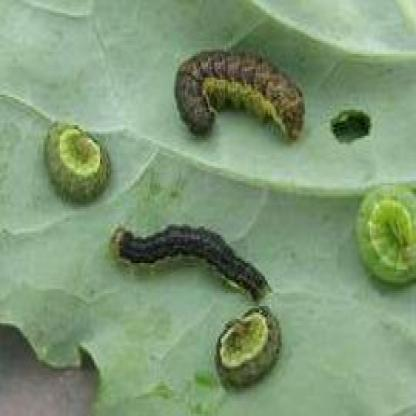armyworm: (173, 46, 309, 148), (111, 219, 271, 304), (357, 181, 416, 289), (213, 304, 278, 390), (46, 124, 111, 198)
